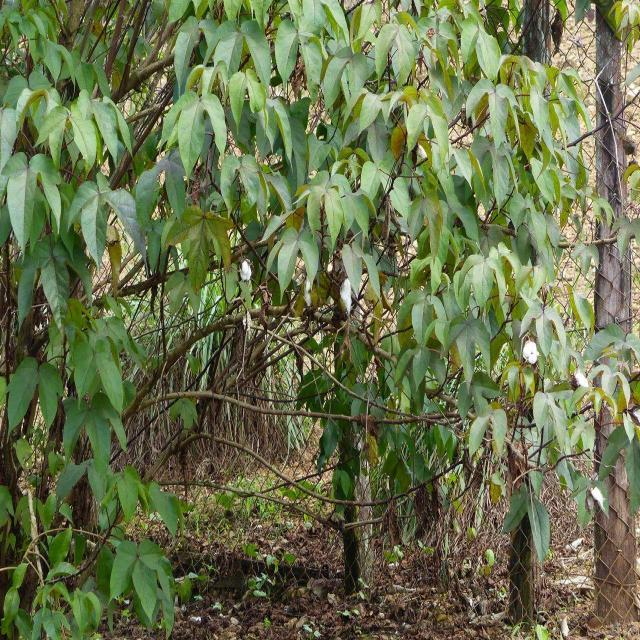Early_blight: (517, 334, 542, 367), (409, 135, 429, 175), (338, 277, 355, 317), (237, 256, 254, 287), (303, 273, 314, 311), (572, 370, 590, 389)
